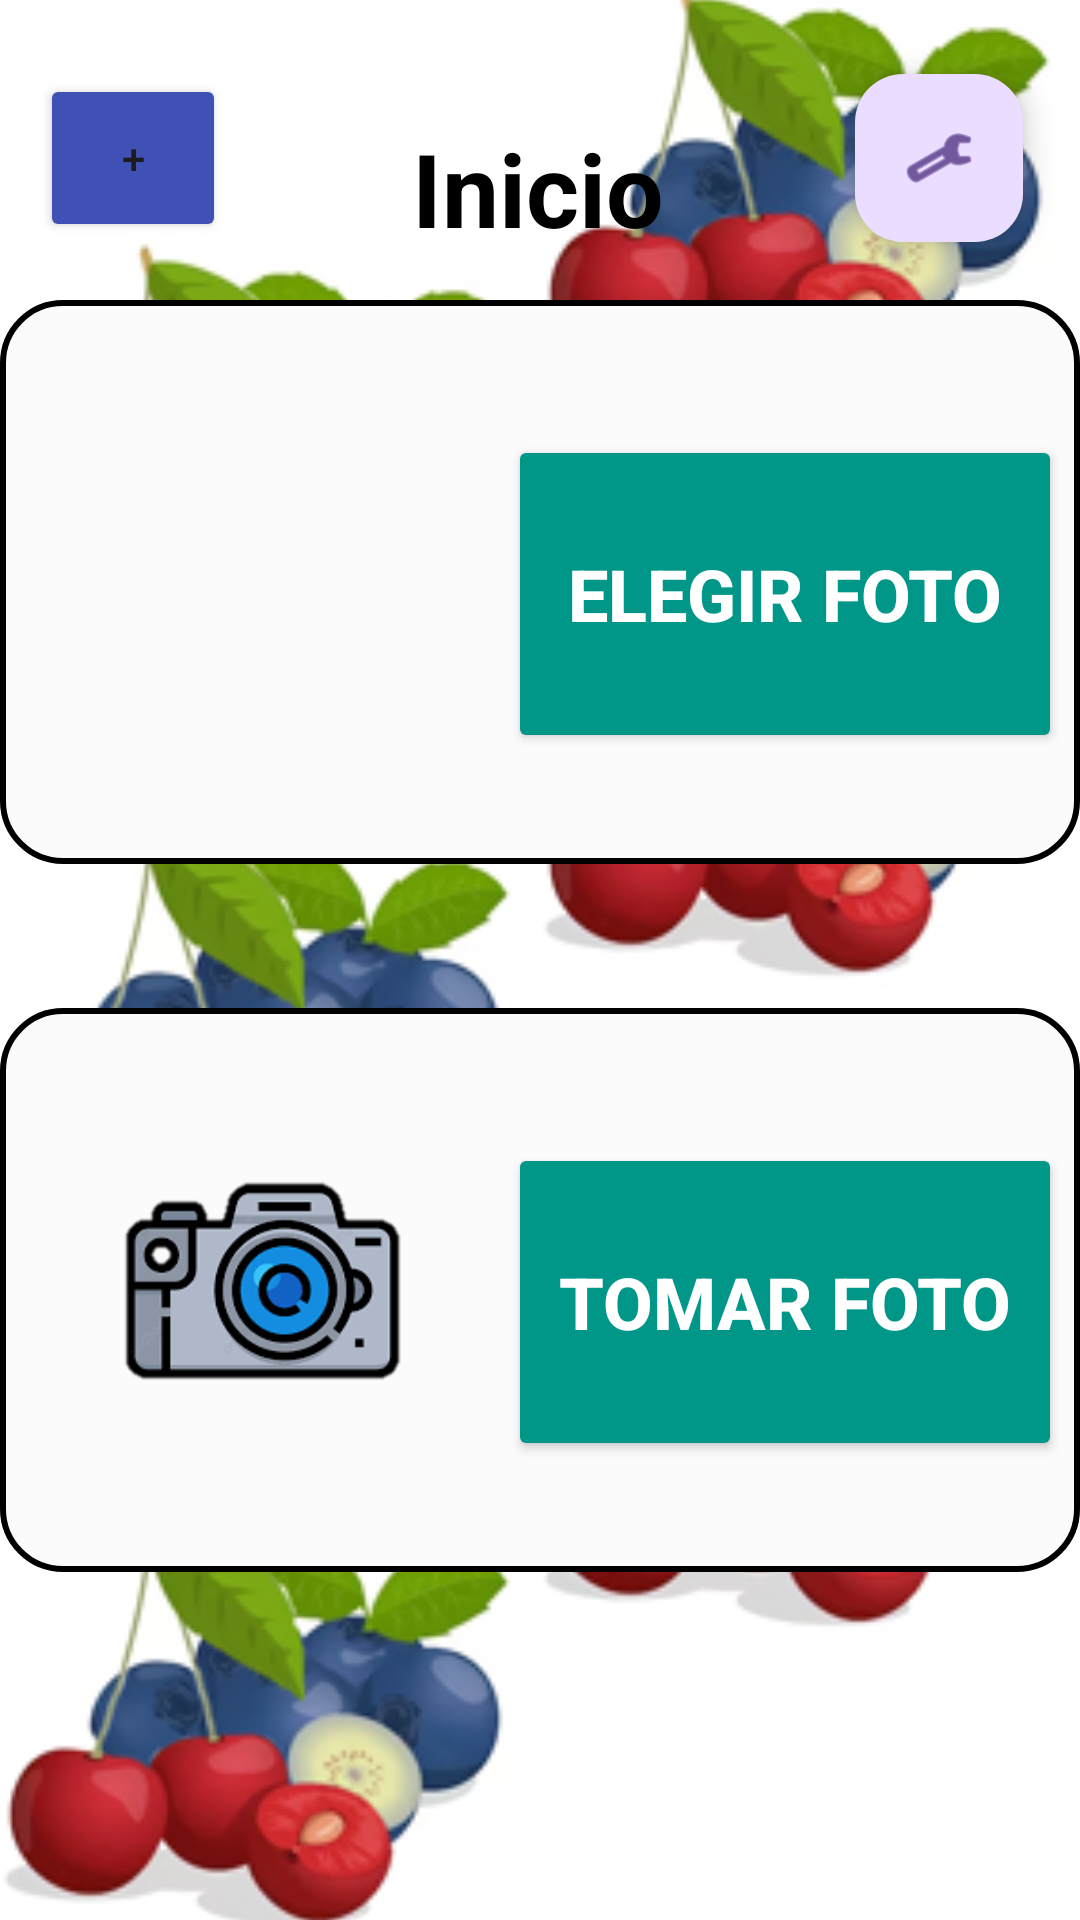

Screen size 1080x1920. Icon name, then its center in pixels as (x,y):
camara: (263,1281)
manage: (939,158)
